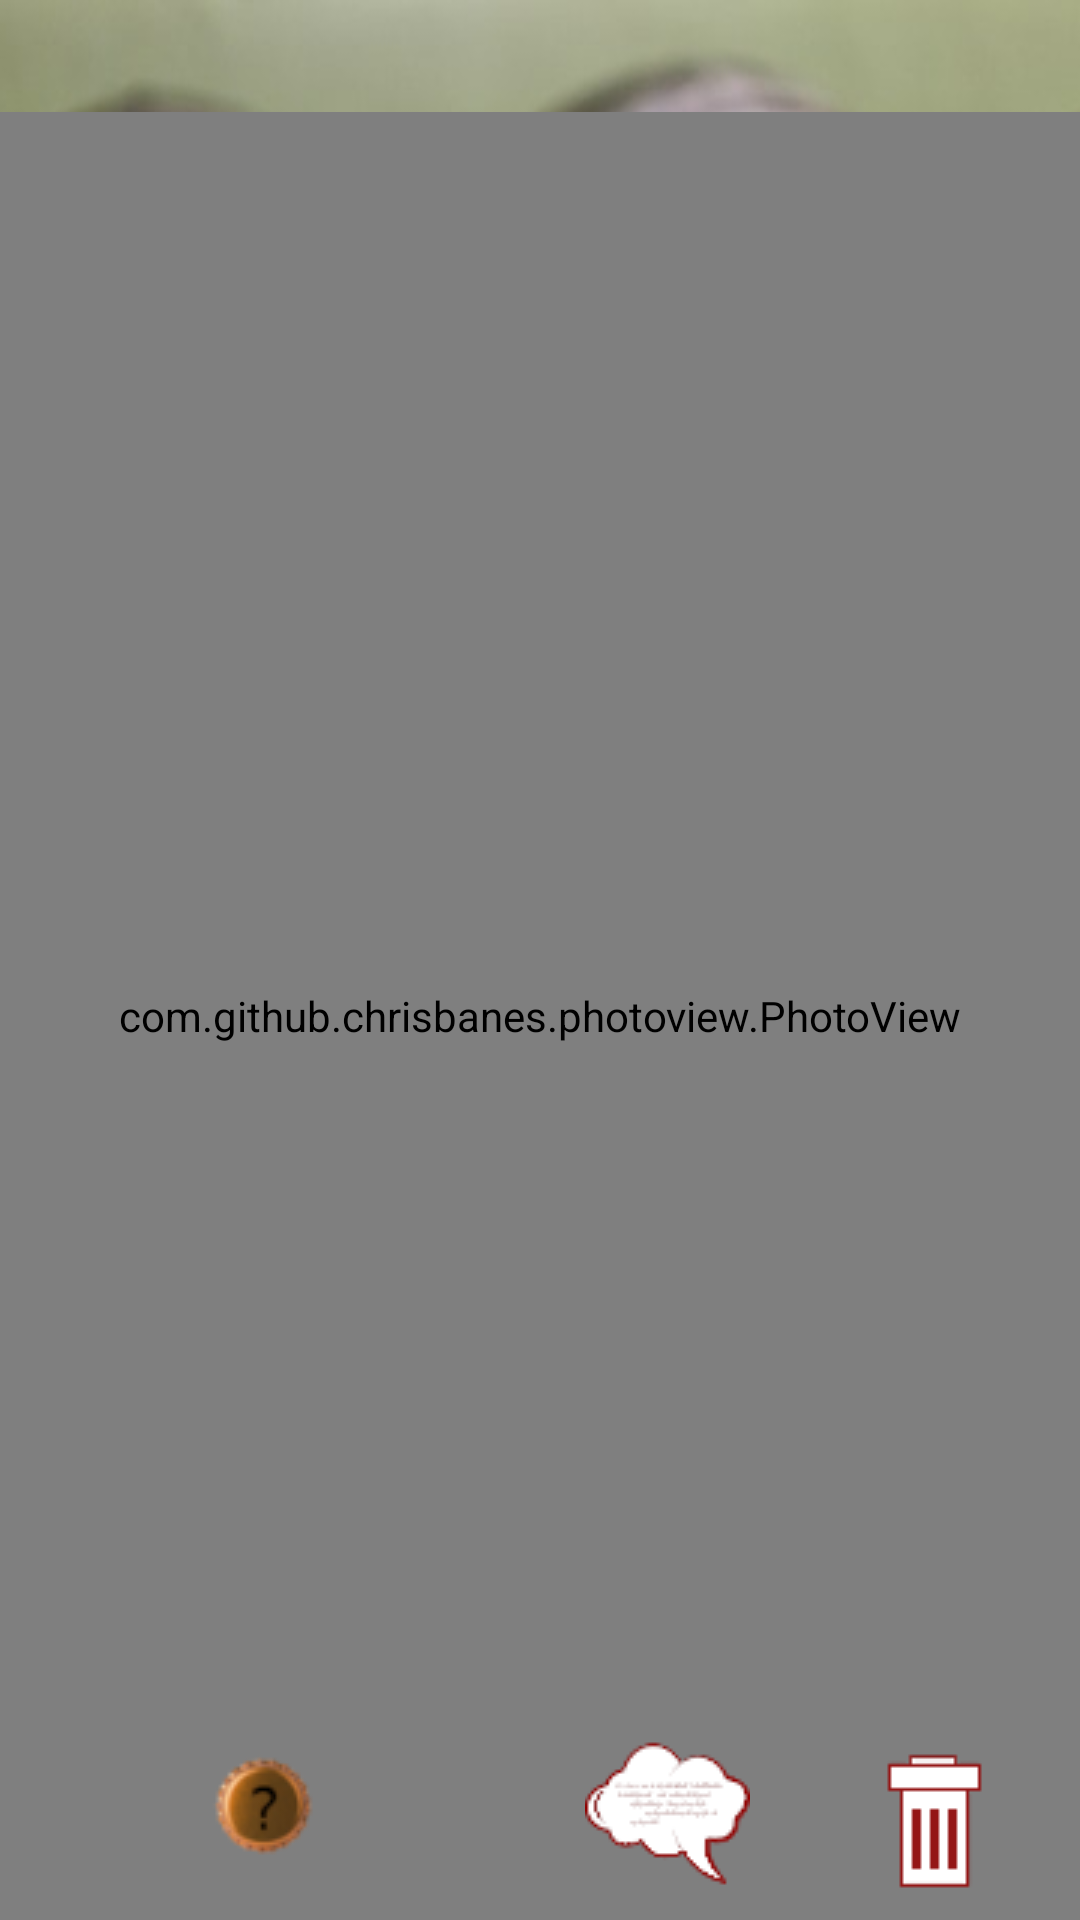

Locate icon controls on the screen. Image size 1080px×1920px, boxes as (x1, y1, x2, y2).
comm: (585, 1742, 750, 1885)
